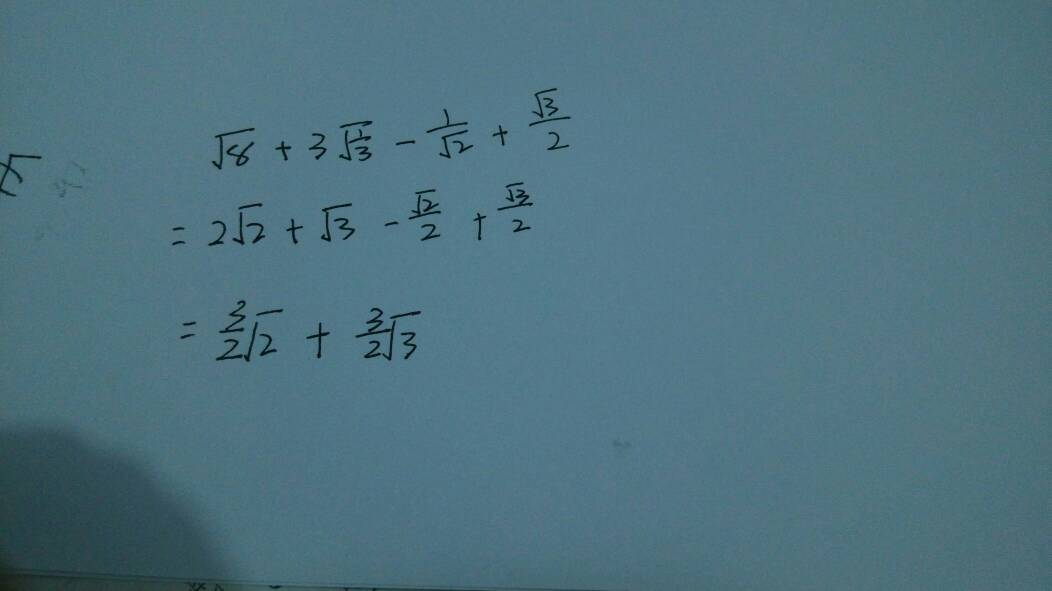division: (521, 113, 579, 130), (489, 200, 537, 217), (351, 322, 395, 340), (422, 119, 470, 134), (398, 208, 443, 220), (338, 135, 376, 146)
sqrt: (207, 126, 264, 171), (384, 307, 427, 366), (247, 305, 288, 364), (333, 115, 380, 164), (314, 201, 361, 244), (526, 83, 568, 125), (230, 202, 267, 248), (407, 185, 445, 222), (499, 176, 538, 212), (436, 132, 471, 159)
